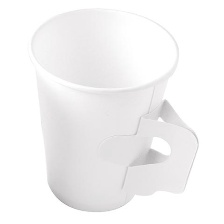paper_cup: (22, 0, 204, 217)
